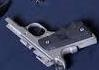gun: (1, 1, 99, 70)
